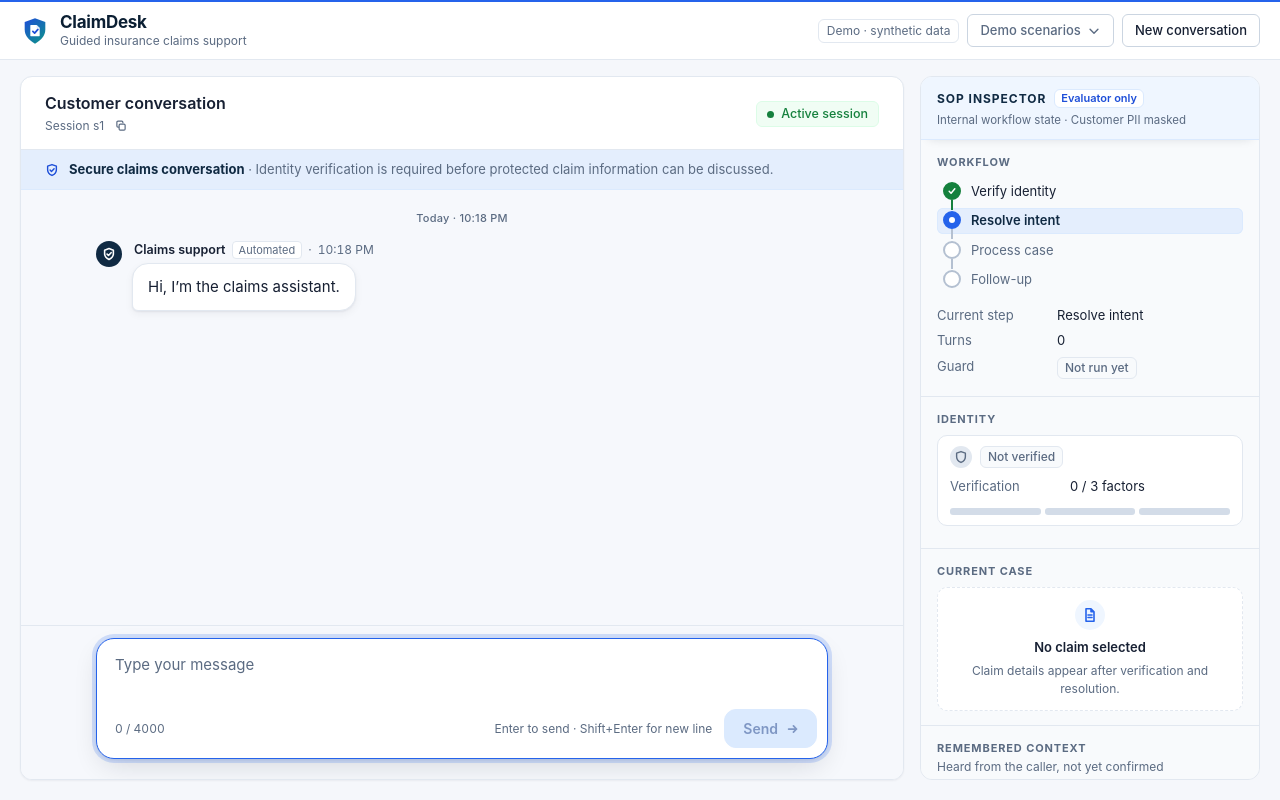
it: availability › keeps showing the last view when a refresh fails
The image size is (1280, 800).
Expected: the text "Hi, I’m the claims assistant." is shown, x1=148 y1=275 x2=340 y2=299
Expected: the text "Current step" shows "Resolve intent", x1=1057 y1=307 x2=1143 y2=323
Type "hello" into the text box labelled "your message". click: point(462, 671)
box: x1=97 y1=639 x2=827 y2=703
Then press Enter
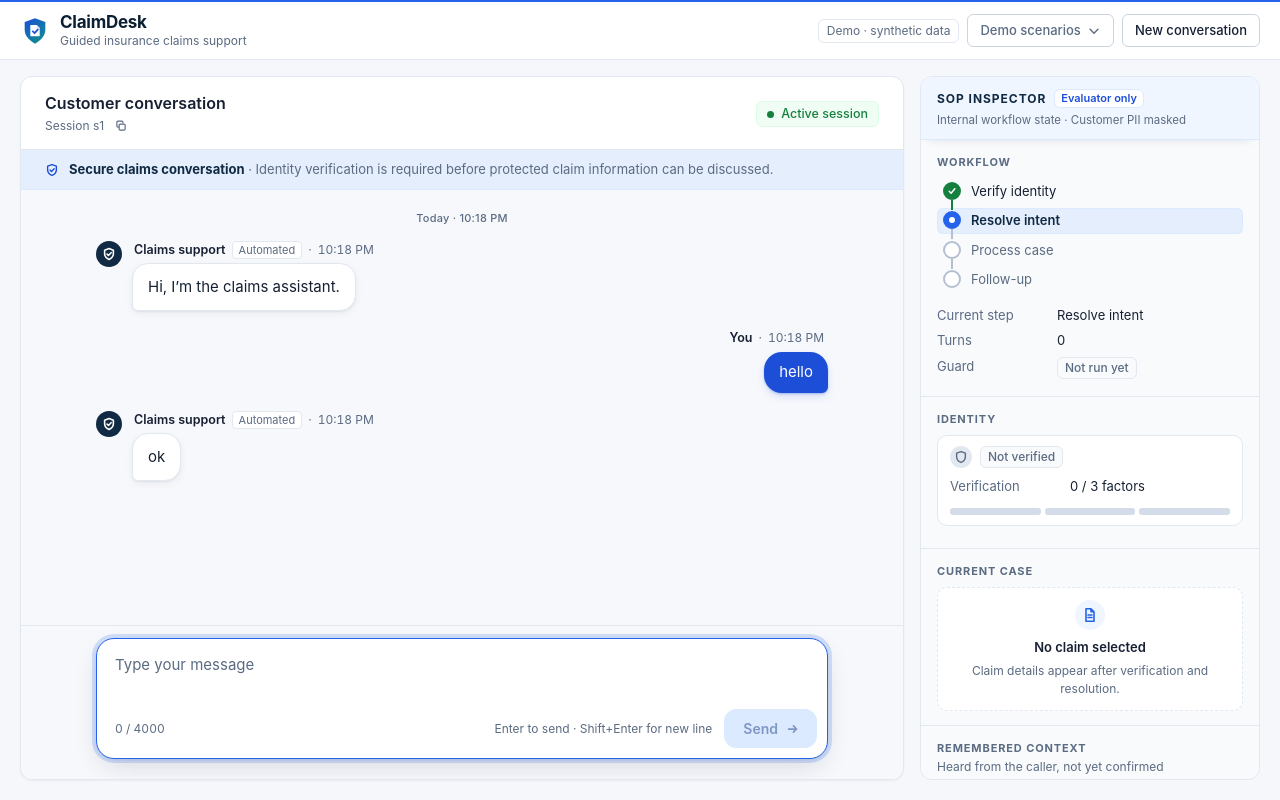
Expected: the text "Current step" shows "Resolve intent", x1=1057 y1=307 x2=1143 y2=323
Result: the text "ok" is shown at x1=148 y1=445 x2=165 y2=469
